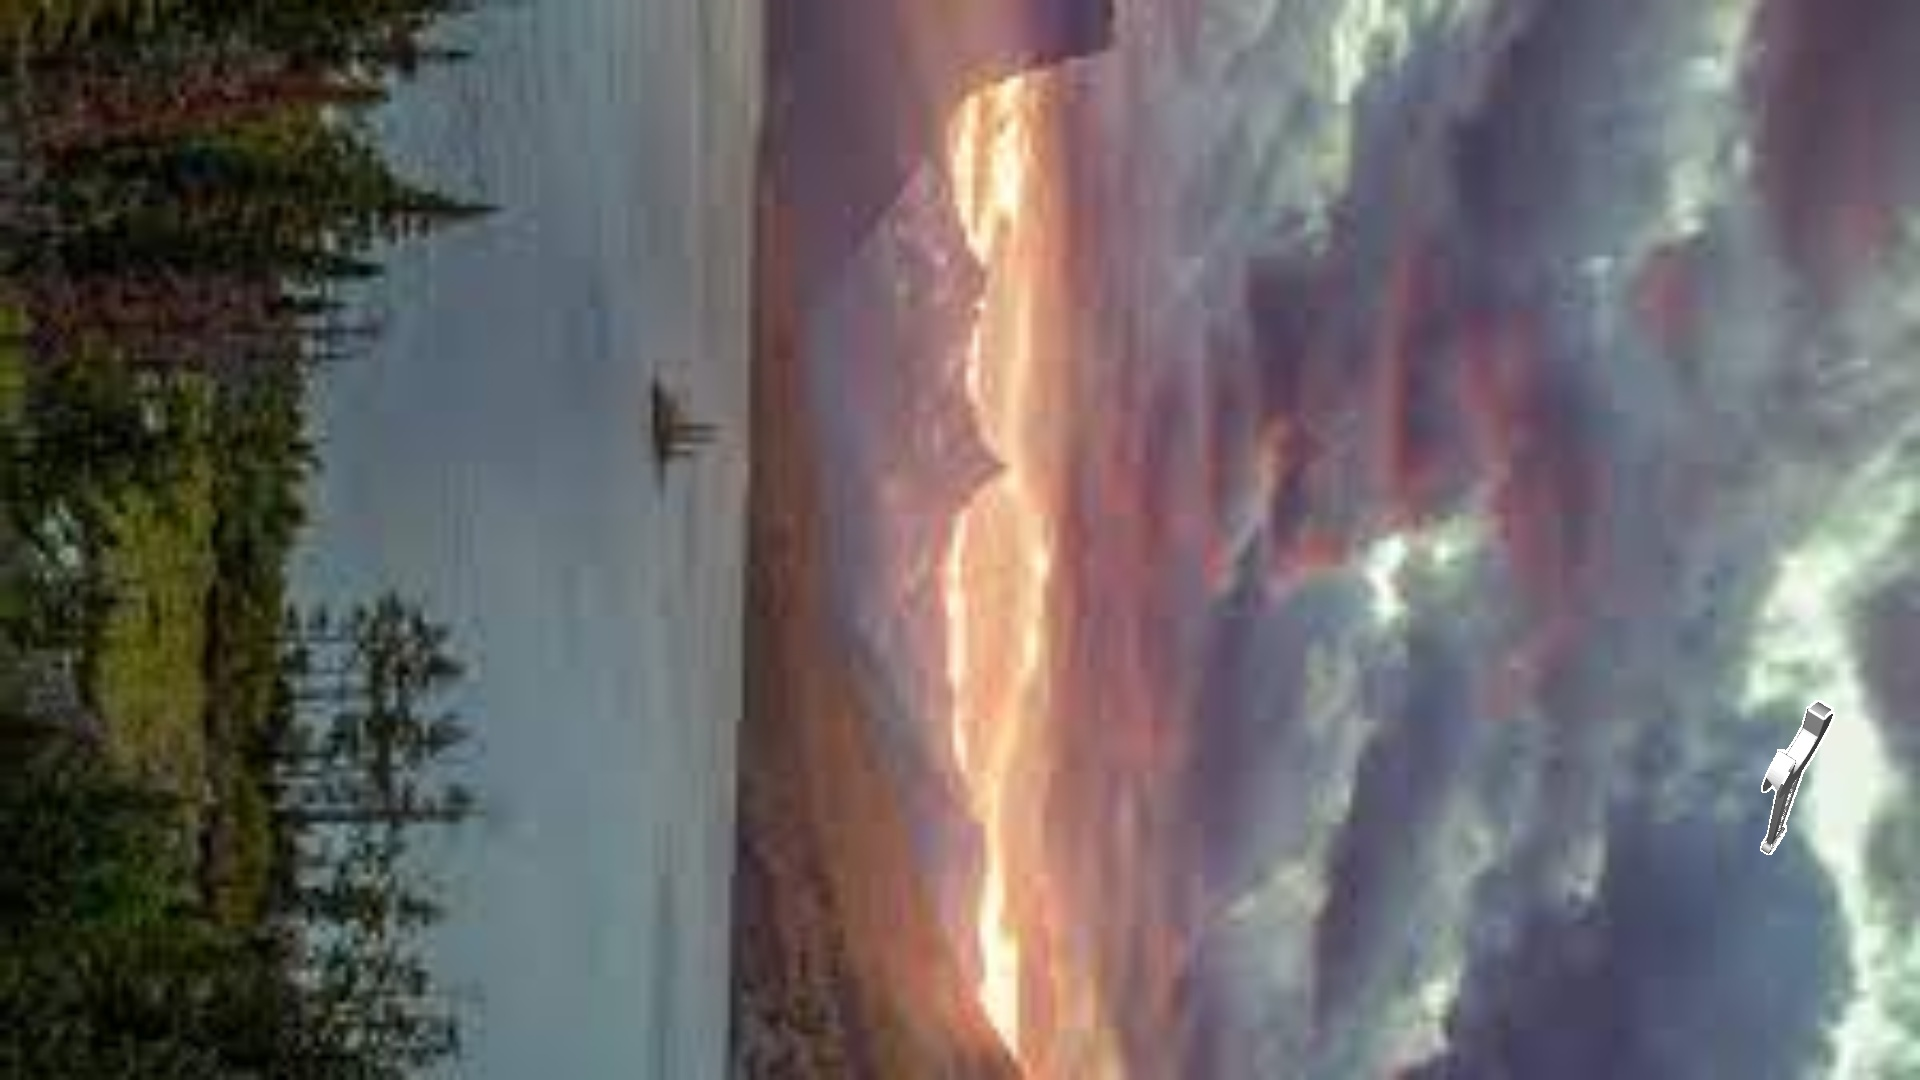Mixed Key: (1760, 700, 1834, 854)
